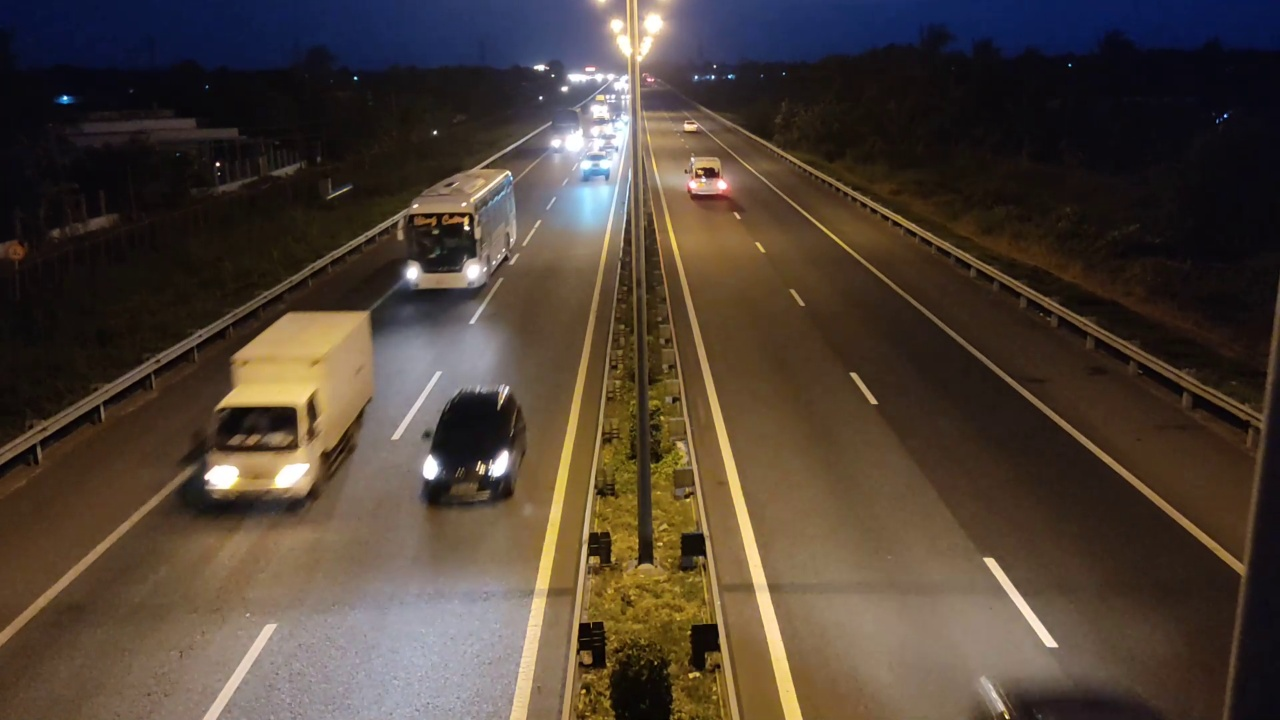bus: (403, 167, 517, 291)
car: (419, 383, 528, 507), (579, 153, 614, 182)
truck: (196, 309, 377, 513)
